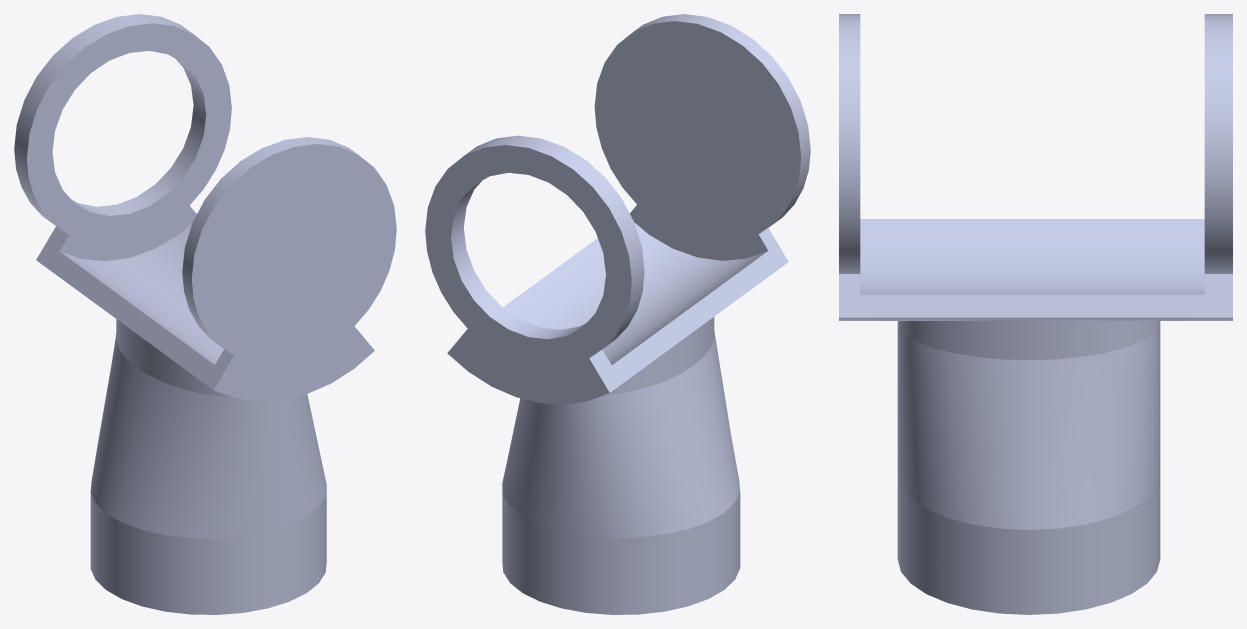
3 renders of one model, left to right at view 1: azimuth 30°, elevation 25°; view 2: azimuth 150°, elevation 25°; view 3: azimuth 270°, elevation 25°, orthographic. The views are drawn at different scales.
Visible parts, largest first — view 1: FBXASC060LINK5BFBXASC062-FBXASC060FBXASC195FBXASC135FBXASC19; view 2: FBXASC060LINK5BFBXASC062-FBXASC060FBXASC195FBXASC135FBXASC19; view 3: FBXASC060LINK5BFBXASC062-FBXASC060FBXASC195FBXASC135FBXASC19.
Boxes of the visible parts, left/top/right/bottom form: FBXASC060LINK5BFBXASC062-FBXASC060FBXASC195FBXASC135FBXASC19: left=14, top=14, right=396, bottom=614; FBXASC060LINK5BFBXASC062-FBXASC060FBXASC195FBXASC135FBXASC19: left=425, top=14, right=810, bottom=614; FBXASC060LINK5BFBXASC062-FBXASC060FBXASC195FBXASC135FBXASC19: left=839, top=14, right=1232, bottom=614.
Size of the model in its own units: 0.056 by 0.084 by 0.1255.
